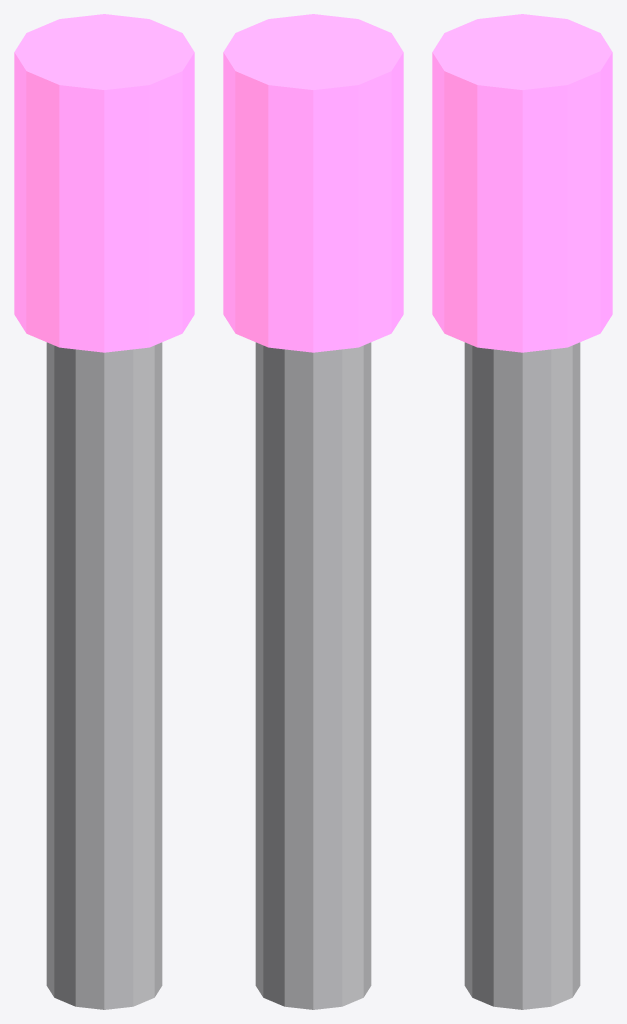
Rendered from lightstick.glb.
3 views of the same model, side by side, from view 1: azimuth 30°, elevation 25°; view 2: azimuth 150°, elevation 25°; view 3: azimuth 270°, elevation 25° (orthographic).
Parts seen in each view (by area): view 1: lightstick; view 2: lightstick; view 3: lightstick.
Boxes of the visible parts, <box> form: lightstick: <box>14,14,194,1009</box>; lightstick: <box>223,14,403,1009</box>; lightstick: <box>432,14,612,1009</box>.
Bounding box in the file's own units: 0.028 × 0.16 × 0.028.
